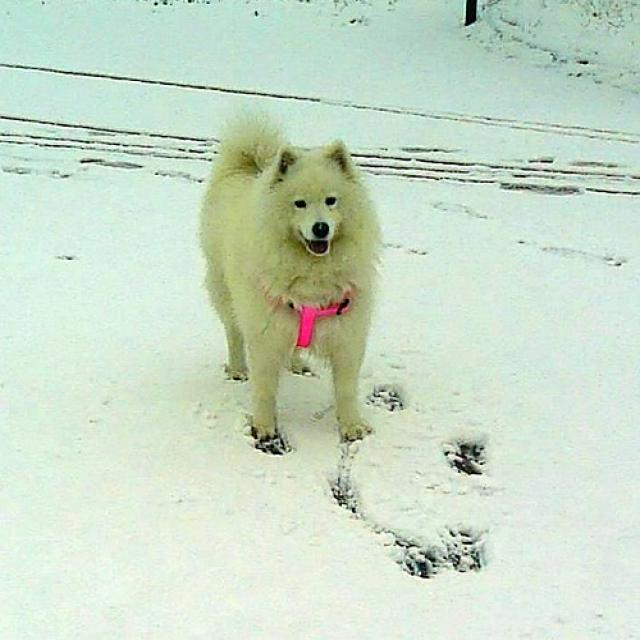dog-samoyed: (192, 98, 384, 452)
